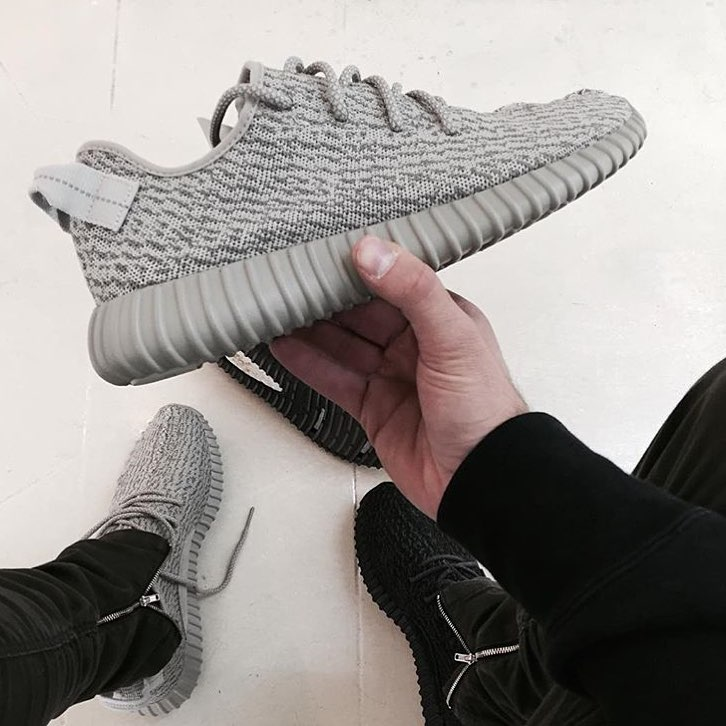sneaker: (65, 391, 251, 722), (327, 463, 544, 726)
